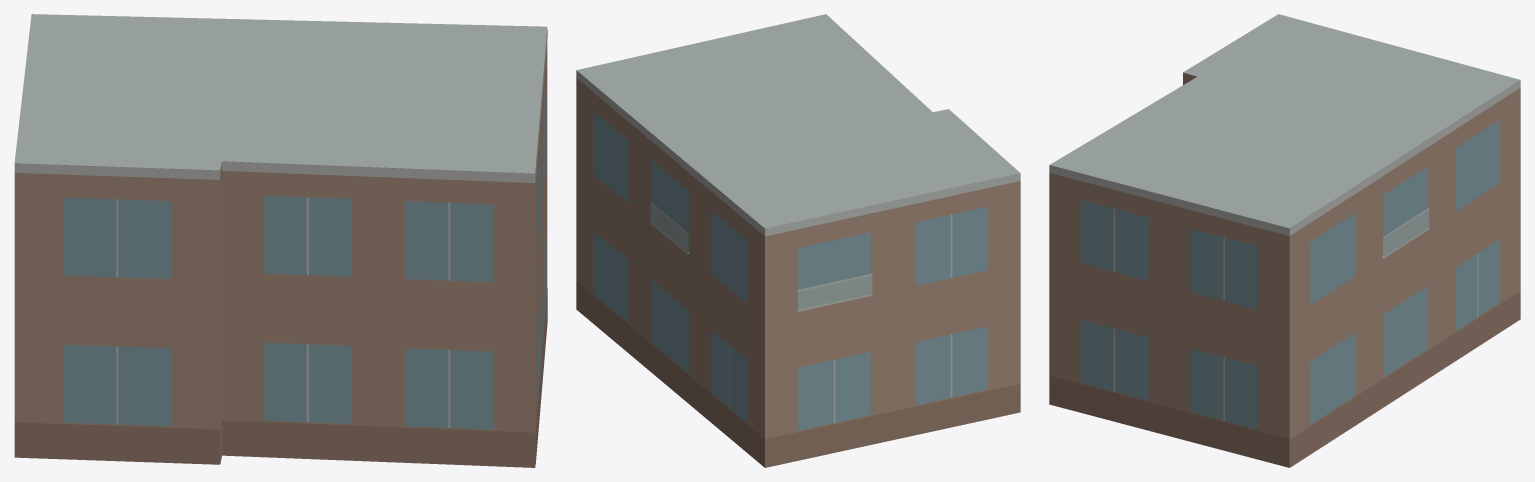
Rendered from survey-upis-32543488.glb.
The picture shows the model from 3 angles, left to right: view 1: azimuth 30°, elevation 25°; view 2: azimuth 150°, elevation 25°; view 3: azimuth 270°, elevation 25°; orthographic projection. The views are drawn at different scales.
Parts seen in each view (by area): view 1: survey-upis-32543488.tmp; view 2: survey-upis-32543488.tmp; view 3: survey-upis-32543488.tmp.
Boxes of the visible parts, <box> form: survey-upis-32543488.tmp: <box>14,14,547,467</box>; survey-upis-32543488.tmp: <box>576,14,1020,467</box>; survey-upis-32543488.tmp: <box>1049,14,1520,467</box>.
Bounding box in the file's own units: 14.41 × 7.5 × 13.38.
